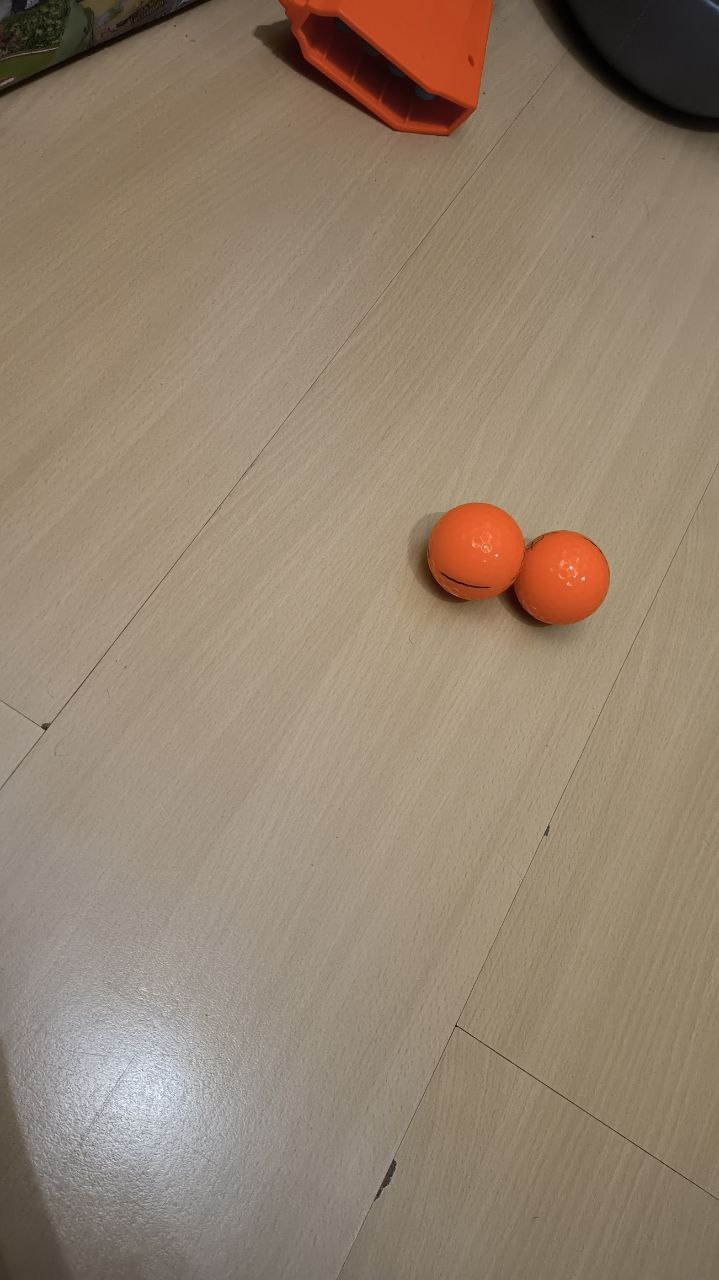orange_ball: (426, 503, 526, 601), (513, 529, 610, 625)
